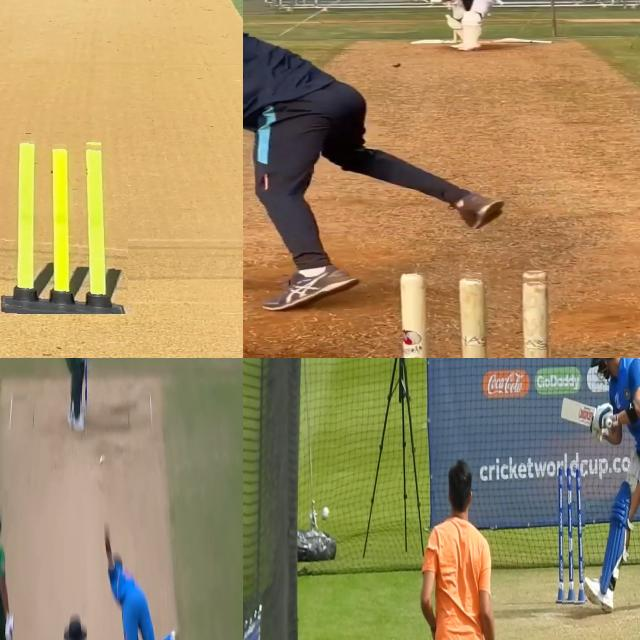Cricket ball: (398, 267, 550, 358), (321, 504, 331, 522), (100, 453, 106, 466), (390, 62, 401, 68)
Stumps: (0, 137, 128, 313), (556, 464, 586, 605)
